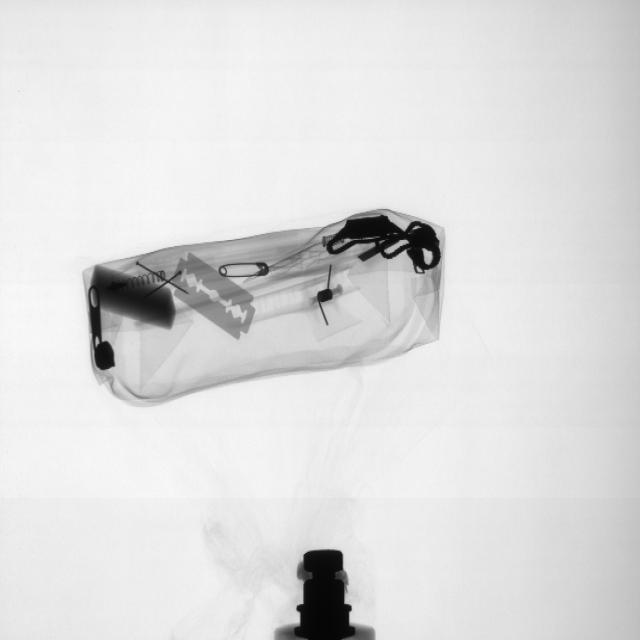BLADE: (172, 252, 256, 345)
